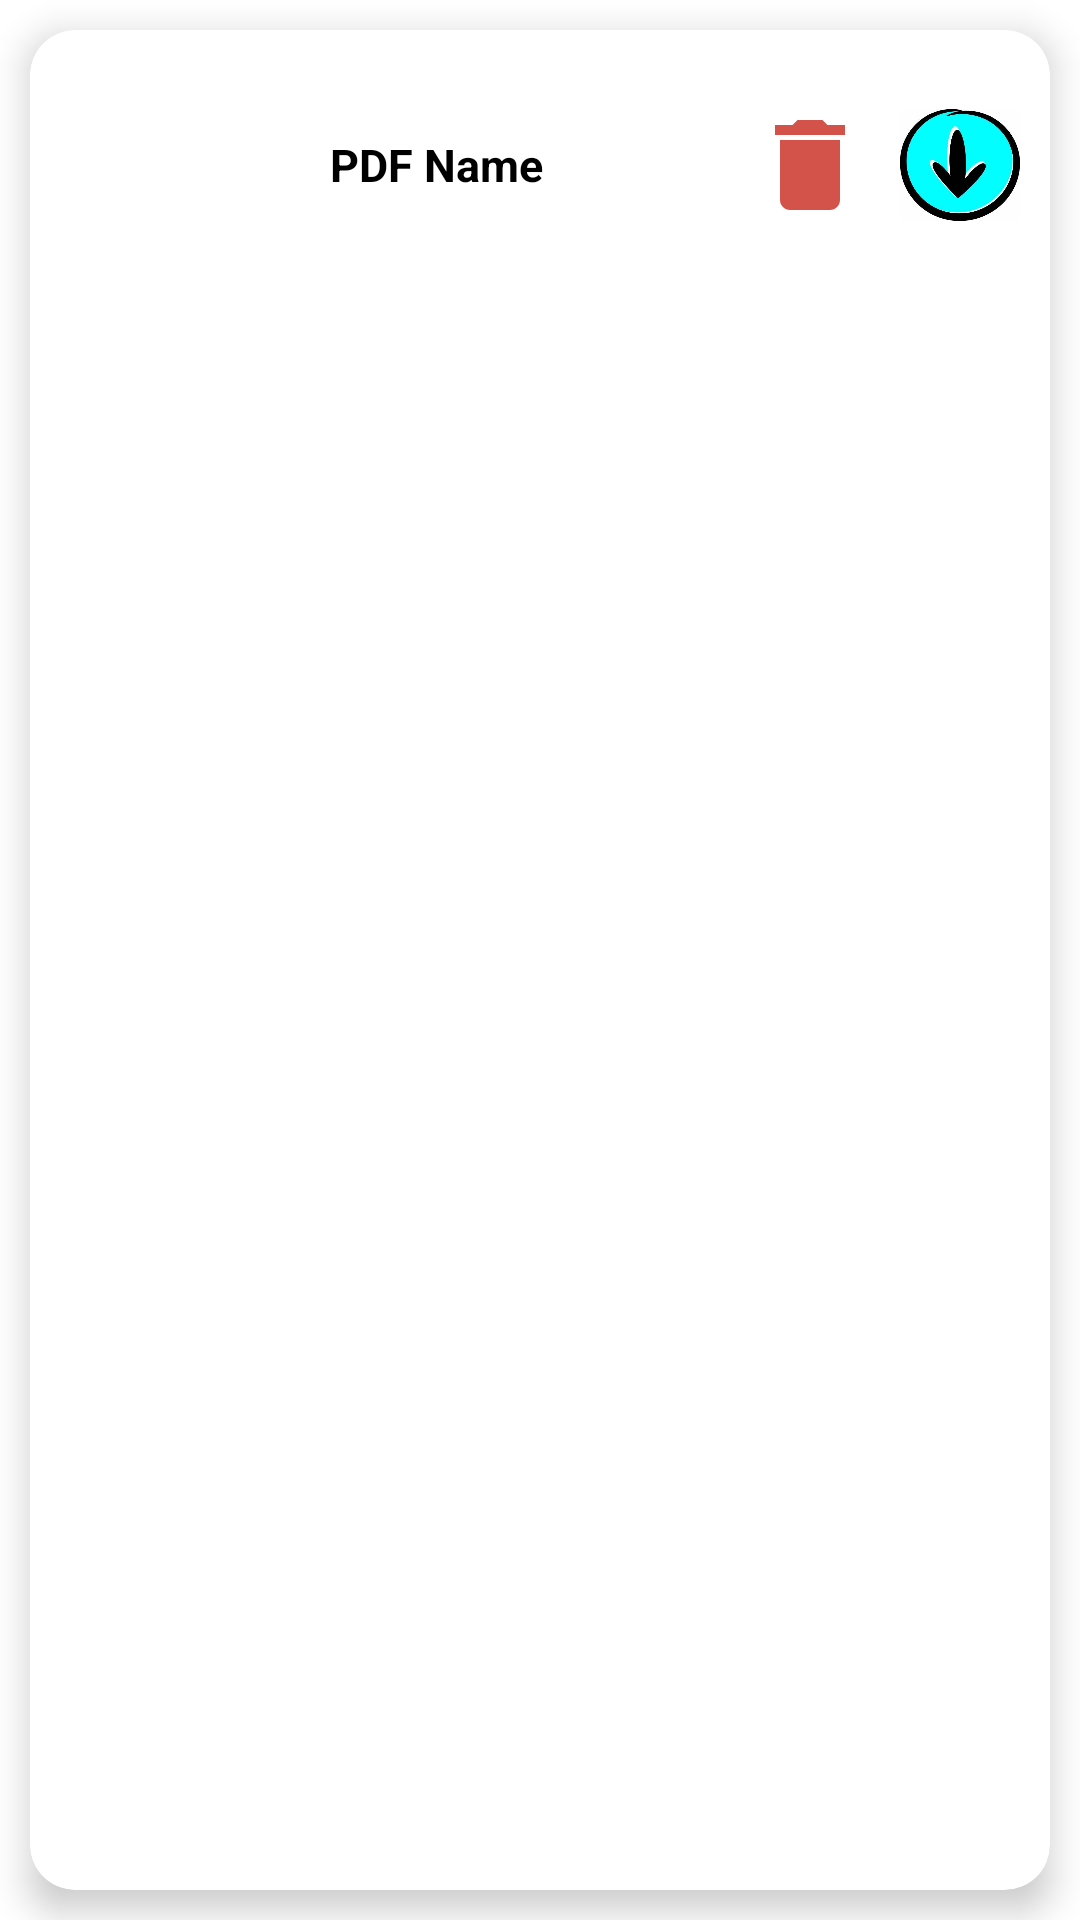

Icon click points for this 1080×1920 phone screenshot, format (x=x, y=y):
download: (x=960, y=165)
